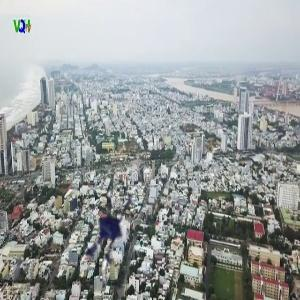drone: (68, 185, 172, 289)
